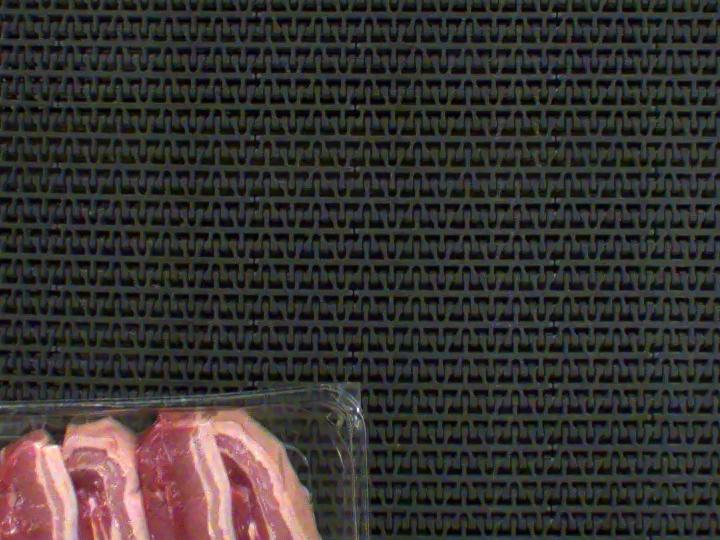packaging-error: (20, 407, 57, 433), (67, 408, 114, 427)
